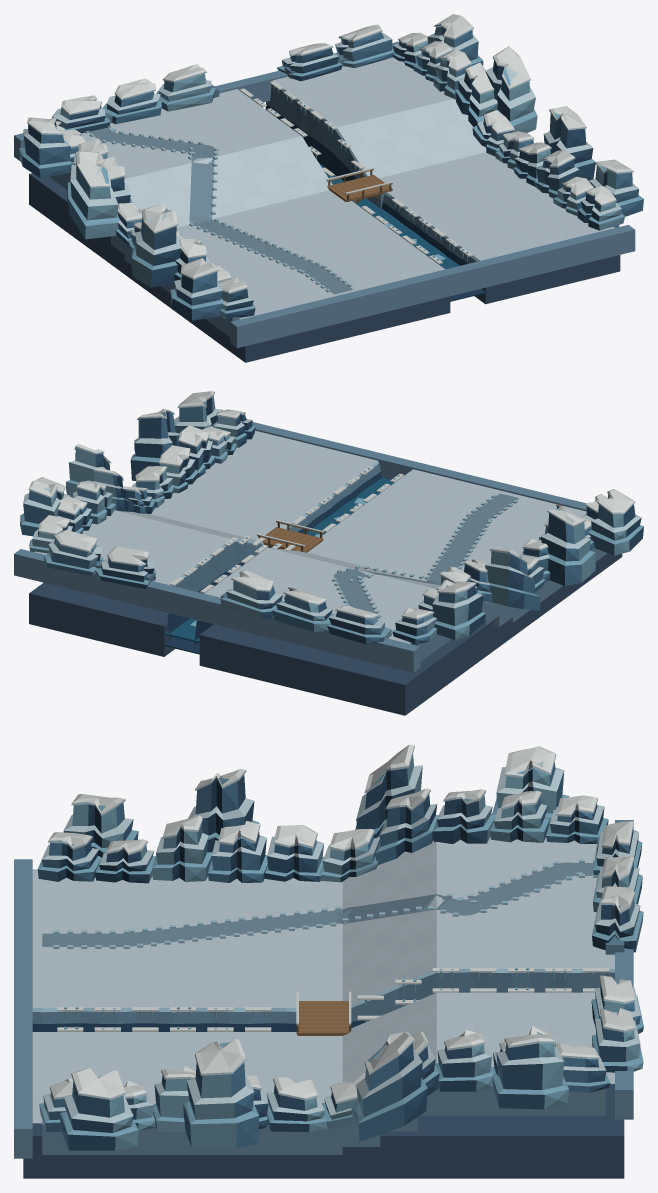
File: frontier-frost-cliffs.glb
The picture shows the model from 3 angles, top to bottom: view 1: azimuth 30°, elevation 25°; view 2: azimuth 150°, elevation 25°; view 3: azimuth 270°, elevation 25°; orthographic projection. The views are drawn at different scales.
Parts seen in each view (by area): view 1: frontier-frost-cliffs; view 2: frontier-frost-cliffs; view 3: frontier-frost-cliffs.
Boxes of the visible parts, x1=… form: frontier-frost-cliffs: x1=14, y1=14, x2=643, y2=362; frontier-frost-cliffs: x1=14, y1=391, x2=643, y2=715; frontier-frost-cliffs: x1=14, y1=744, x2=643, y2=1178.
Size of the model in its own units: 77.93 by 18.99 by 67.09.
